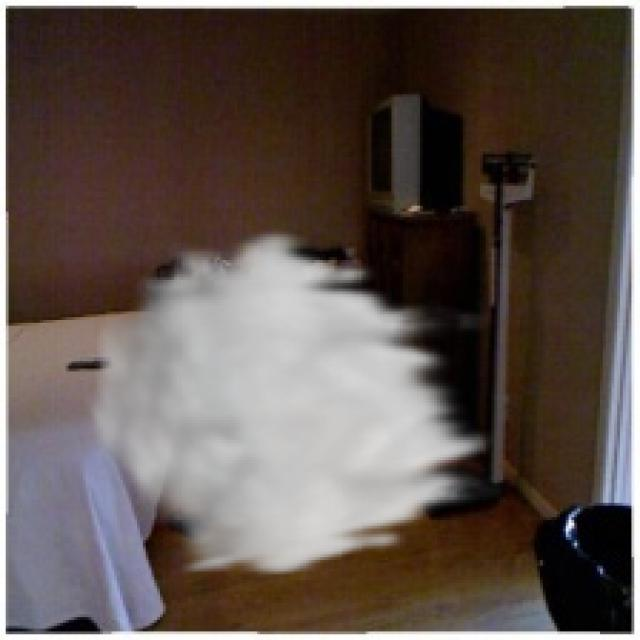smoke: (80, 226, 506, 580)
